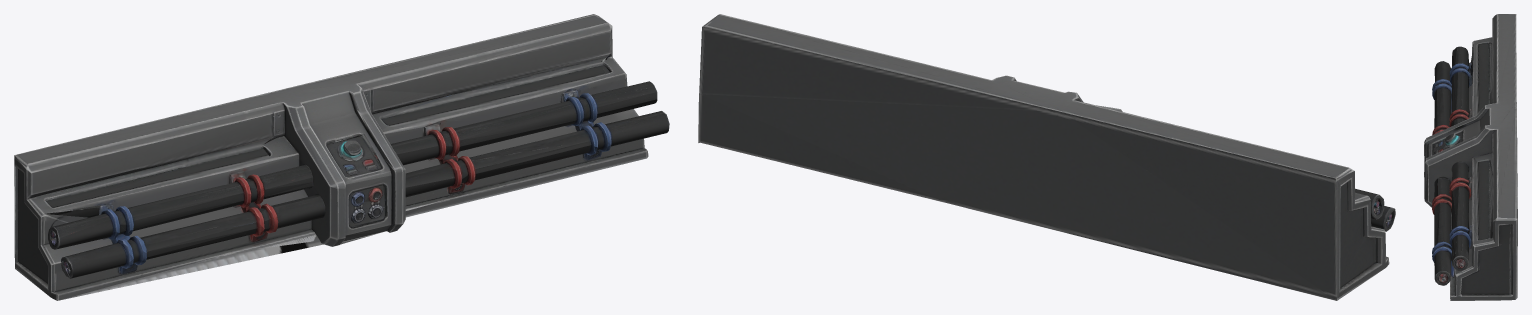
File: rail_3000.glb
The picture shows the model from 3 angles, left to right: view 1: azimuth 30°, elevation 25°; view 2: azimuth 150°, elevation 25°; view 3: azimuth 270°, elevation 25°; orthographic projection. The views are drawn at different scales.
Parts seen in each view (by area): view 1: output_unwrapped; view 2: output_unwrapped; view 3: output_unwrapped.
Part boxes in pixels (x1=…): output_unwrapped: x1=14, y1=14, x2=669, y2=300; output_unwrapped: x1=698, y1=14, x2=1395, y2=300; output_unwrapped: x1=1424, y1=14, x2=1517, y2=300.
Size of the model in its own units: 1.9 by 0.3414 by 0.3561.
1 material, 1 textured.
